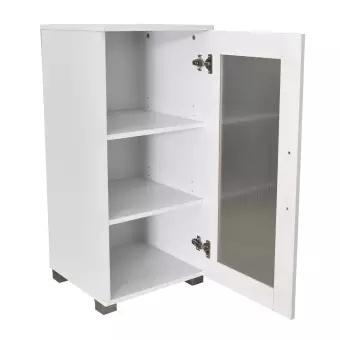cabinet_door: (201, 31, 299, 297)
